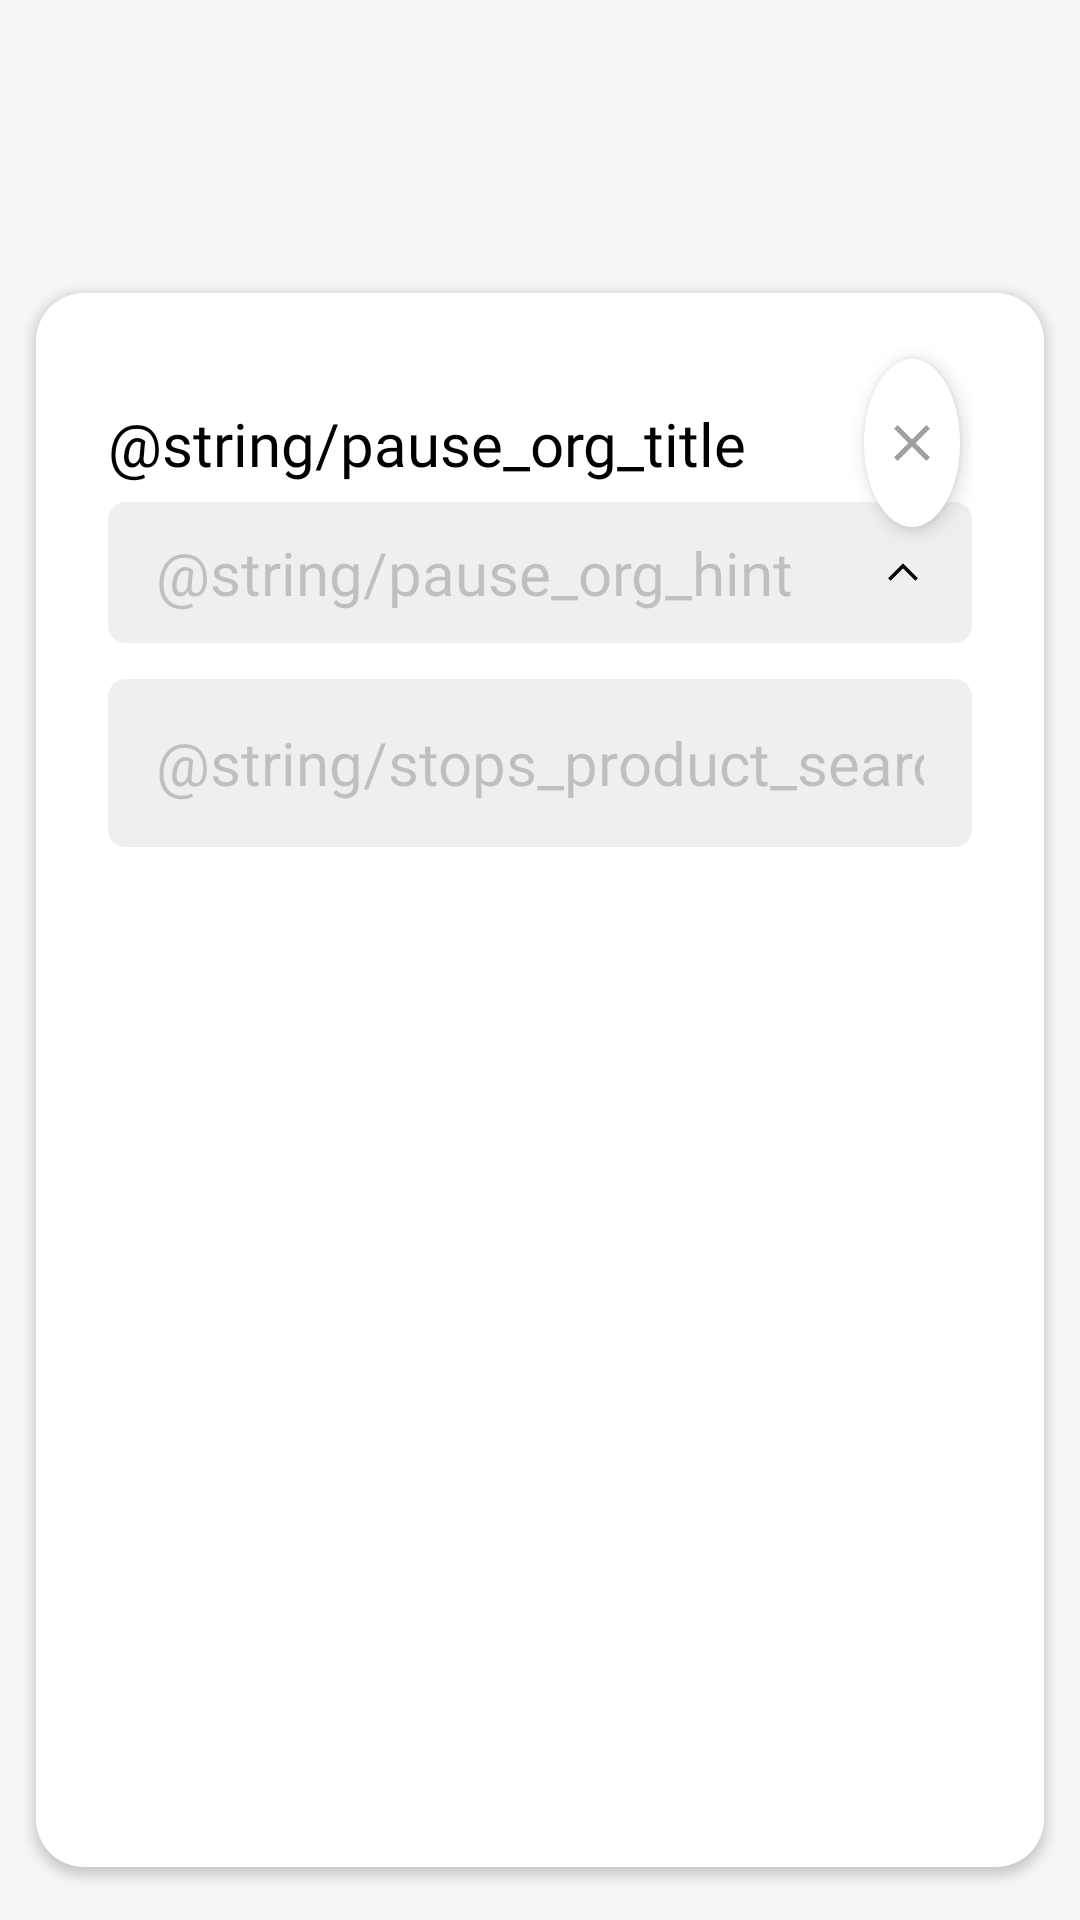

Icons on this 1080 x 1920 Android screen, each with its box as Rect(x1, y1, x2, y2):
close: Rect(873, 391, 960, 527)
